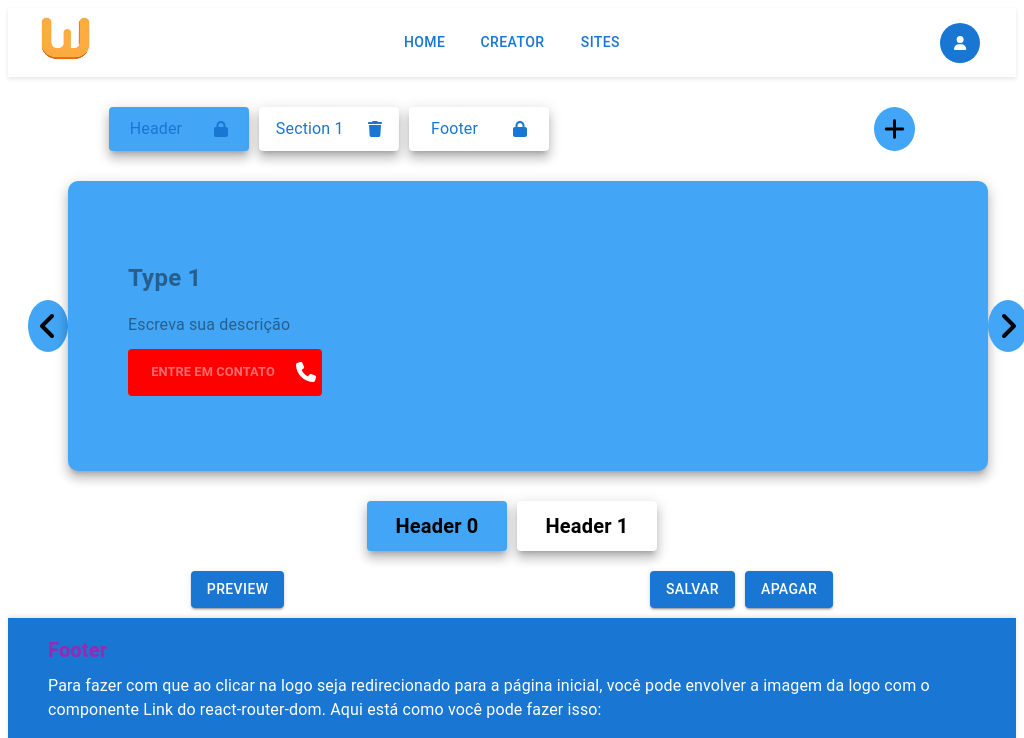
Test case: LPCreator › Should remove one section when click
Click the text "Section 1" at {"x": 310, "y": 129}, box x1=276 y1=117 x2=344 y2=141
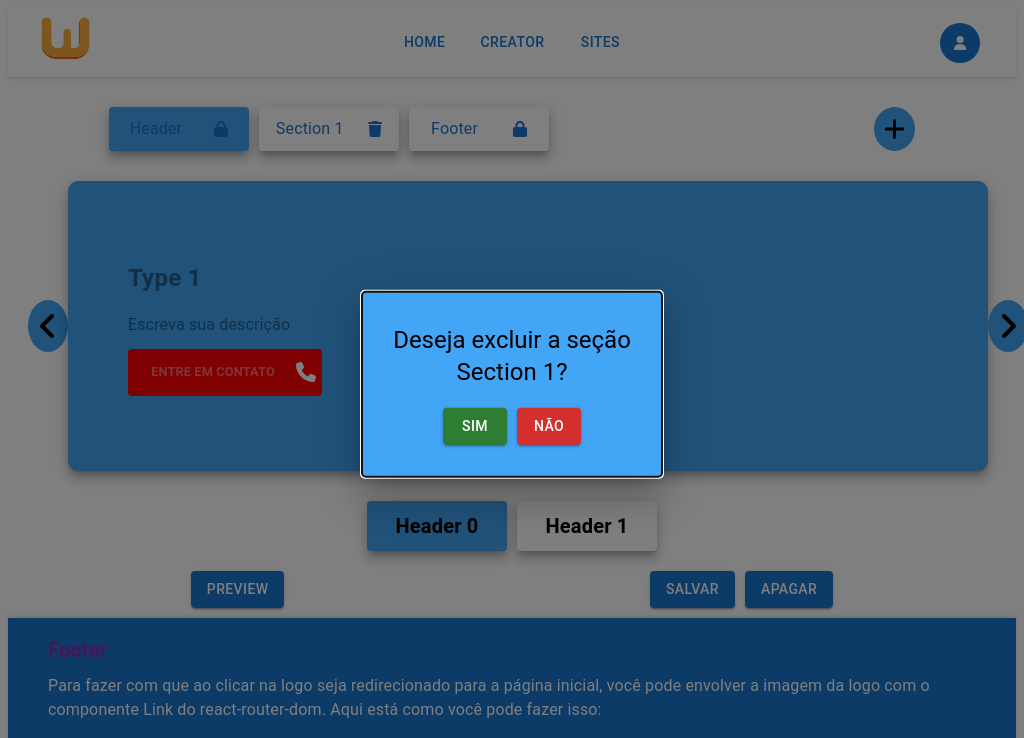
Click the button "Sim" at {"x": 475, "y": 426}, box x1=443 y1=408 x2=507 y2=444
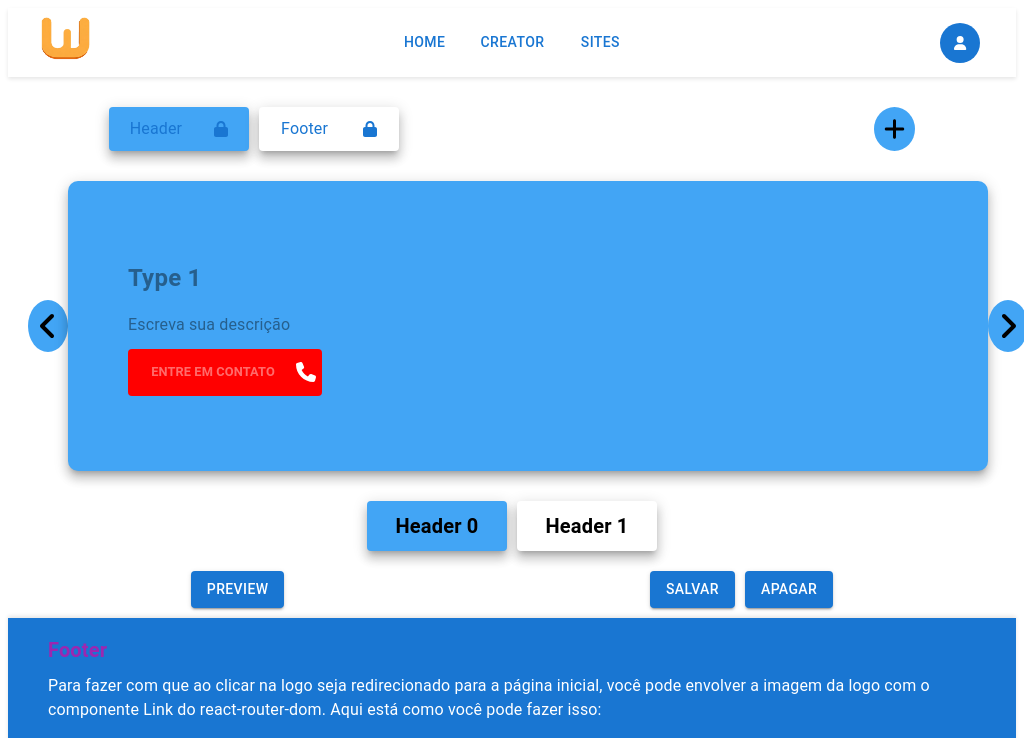
expect the text "Section 1" is gone: met
